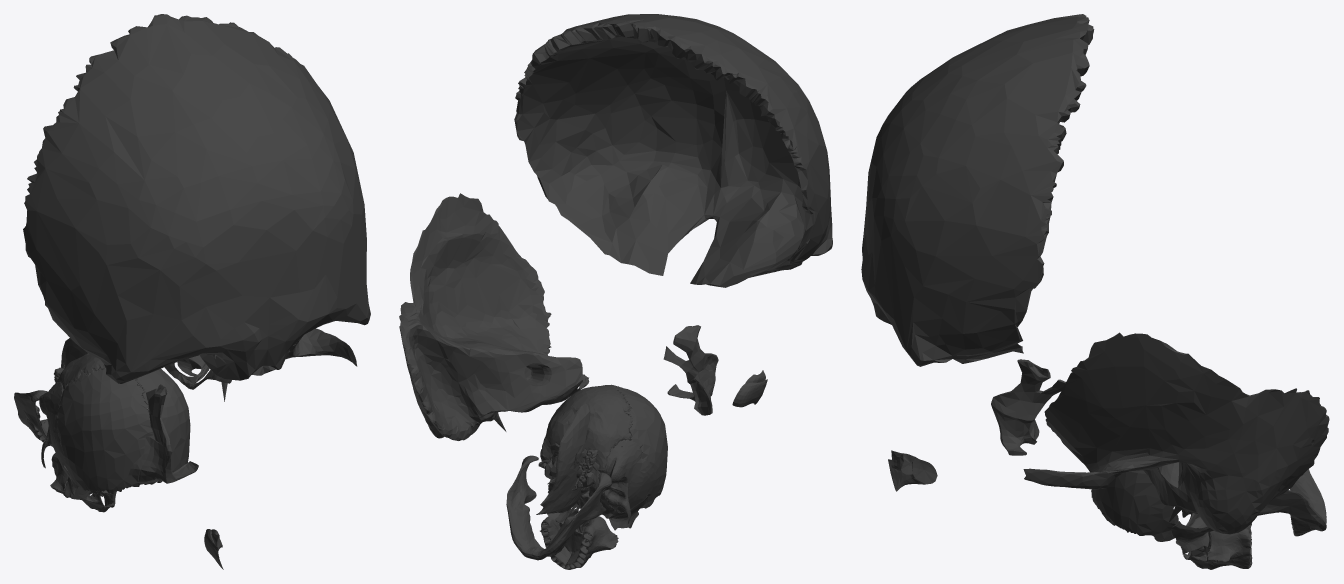
The model's file is sharedassets20.glb.
The picture shows the model from 3 angles, left to right: view 1: azimuth 30°, elevation 25°; view 2: azimuth 150°, elevation 25°; view 3: azimuth 270°, elevation 25°; orthographic projection. The views are drawn at different scales.
Visible parts, largest first — view 1: 0068_Frontal__001097, 0056_Parietal, R__001095, 0054_Palatine, R__001081, 0057_Parietal, L__001094, 0069_Temporal, L__001110, 0084_Temporal, R__001120, 0111_Mandible_body_001091, 0045_Maxilla, R_body_001078_004, 0058_Occipital__001132, 0072_Foramen lacerum, temporal surface, L__00; view 2: 0068_Frontal__001097, 0069_Temporal, L__001110, 0058_Occipital__001132, 0111_Mandible_body_001091, 0084_Temporal, R__001120, 0056_Parietal, R__001095, 0054_Palatine, R__001081, 0131_Temporalis, L__1000416, 0045_Maxilla, R_body_001078_004, 0106_Sphenoid__001143, 0132_Maxilla, L_ body_001063, 0125_Masseter, superficial, L__1000265; view 3: 0068_Frontal__001097, 0069_Temporal, L__001110, 0057_Parietal, L__001094, 0054_Palatine, R__001081, 0111_Mandible_body_001091, 0132_Maxilla, L_ body_001063, 0106_Sphenoid__001143, 0125_Masseter, superficial, L__1000265.
Boxes of the visible parts, x1,y1,x2,y2 form: 0068_Frontal__001097: [23, 14, 370, 383]; 0056_Parietal, R__001095: [57, 368, 158, 493]; 0054_Palatine, R__001081: [128, 384, 198, 483]; 0057_Parietal, L__001094: [135, 369, 190, 482]; 0069_Temporal, L__001110: [177, 328, 357, 401]; 0084_Temporal, R__001120: [39, 382, 65, 468]; 0111_Mandible_body_001091: [14, 390, 48, 442]; 0045_Maxilla, R_body_001078_004: [50, 453, 105, 510]; 0058_Occipital__001132: [55, 353, 106, 391]; 0072_Foramen lacerum, temporal surface, L__00: [164, 355, 209, 383]; 0068_Frontal__001097: [514, 14, 832, 287]; 0069_Temporal, L__001110: [399, 193, 589, 440]; 0058_Occipital__001132: [540, 384, 632, 488]; 0111_Mandible_body_001091: [506, 455, 611, 560]; 0084_Temporal, R__001120: [589, 439, 656, 524]; 0056_Parietal, R__001095: [615, 386, 667, 508]; 0054_Palatine, R__001081: [663, 325, 718, 415]; 0131_Temporalis, L__1000416: [537, 404, 590, 514]; 0045_Maxilla, R_body_001078_004: [565, 516, 618, 569]; 0106_Sphenoid__001143: [547, 479, 647, 530]; 0132_Maxilla, L_ body_001063: [540, 515, 575, 569]; 0125_Masseter, superficial, L__1000265: [732, 379, 767, 407]; 0068_Frontal__001097: [861, 14, 1094, 366]; 0069_Temporal, L__001110: [1023, 332, 1329, 534]; 0057_Parietal, L__001094: [1092, 470, 1178, 541]; 0054_Palatine, R__001081: [991, 359, 1065, 455]; 0111_Mandible_body_001091: [1258, 469, 1326, 536]; 0132_Maxilla, L_ body_001063: [1187, 528, 1252, 569]; 0106_Sphenoid__001143: [1171, 508, 1213, 554]; 0125_Masseter, superficial, L__1000265: [888, 459, 937, 491].
Bounding box in the file's own units: 0.1902 × 0.2819 × 0.2209.
Materials: 1 (1 with a texture image).
